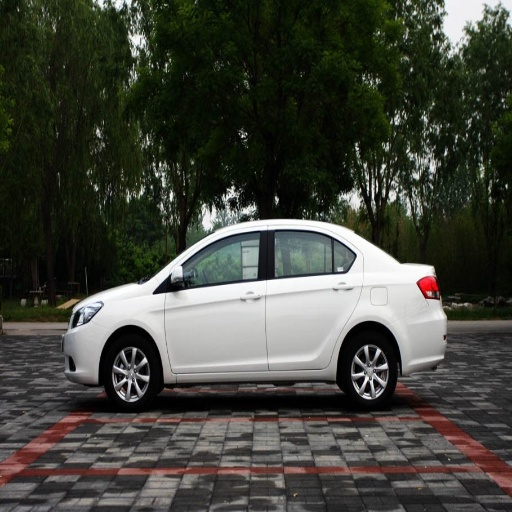back_left_door: (268, 229, 360, 367)
front_left_door: (165, 229, 267, 371)
